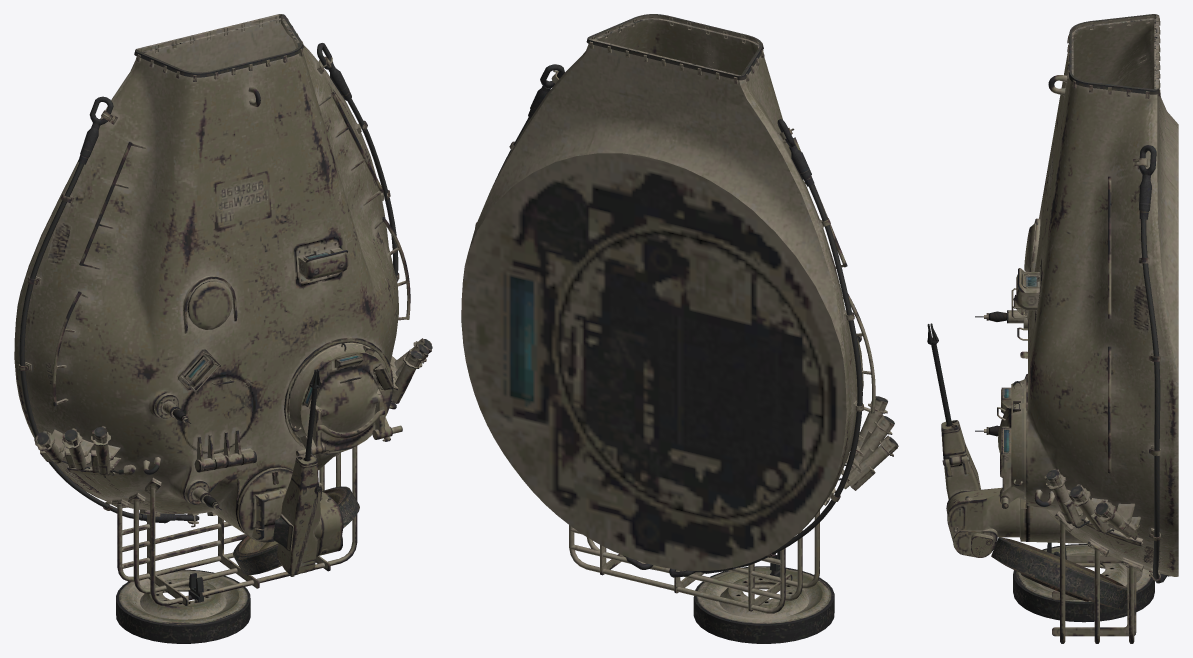
Rendered from Turret_01.glb.
The picture shows the model from 3 angles, left to right: view 1: azimuth 30°, elevation 25°; view 2: azimuth 150°, elevation 25°; view 3: azimuth 270°, elevation 25°; orthographic projection. The views are drawn at different scales.
Parts seen in each view (by area): view 1: set_0_group_0; view 2: set_0_group_0; view 3: set_0_group_0.
Boxes of the visible parts, left/top/right/bottom form: set_0_group_0: left=14, top=14, right=432, bottom=643; set_0_group_0: left=461, top=14, right=898, bottom=643; set_0_group_0: left=927, top=14, right=1178, bottom=643.
Size of the model in its own units: 2.72 by 3.56 by 1.42.
Materials: 1 (1 with a texture image).
